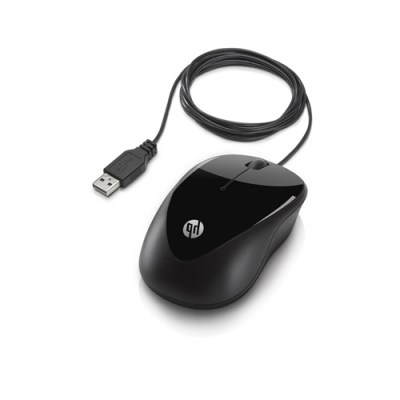hp-mouse-X1000: (91, 44, 325, 308)
